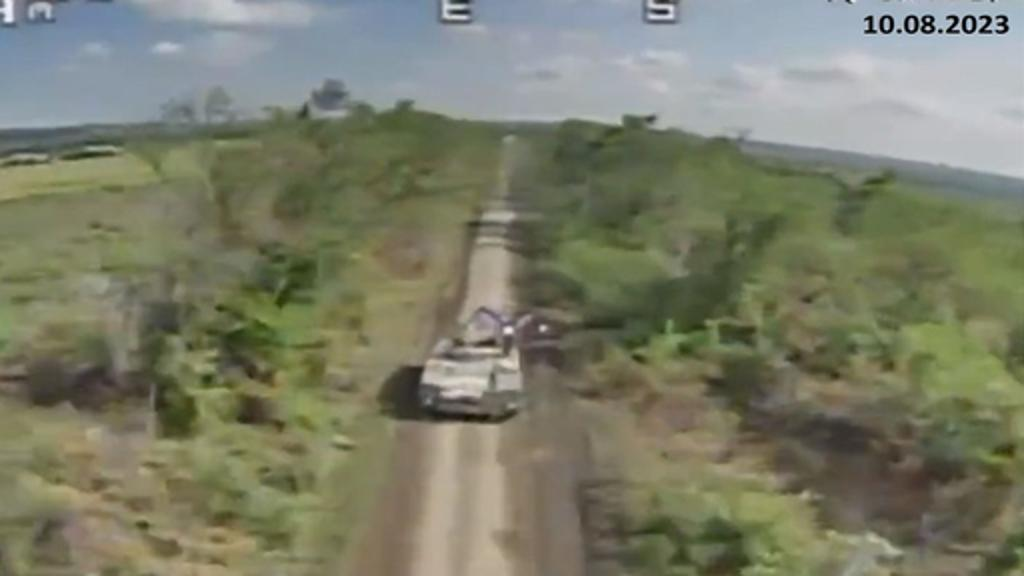APC-IFV: (410, 314, 534, 424)
